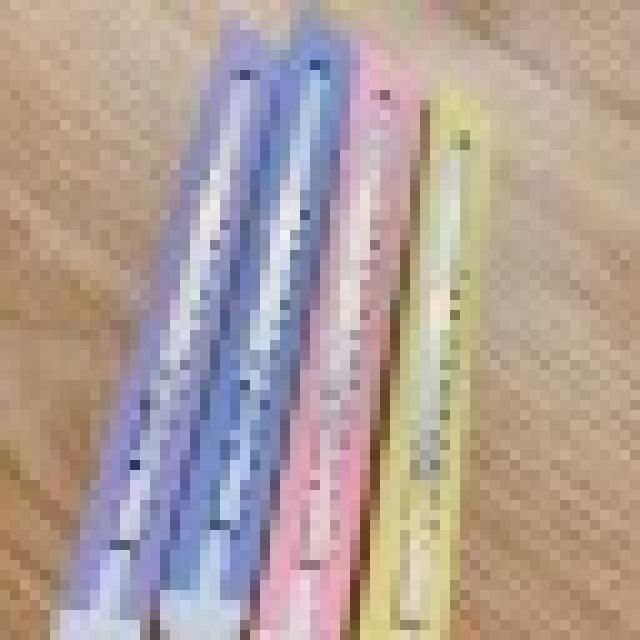cutter: (50, 10, 280, 640), (159, 1, 352, 640), (253, 28, 416, 640), (367, 76, 495, 640)
